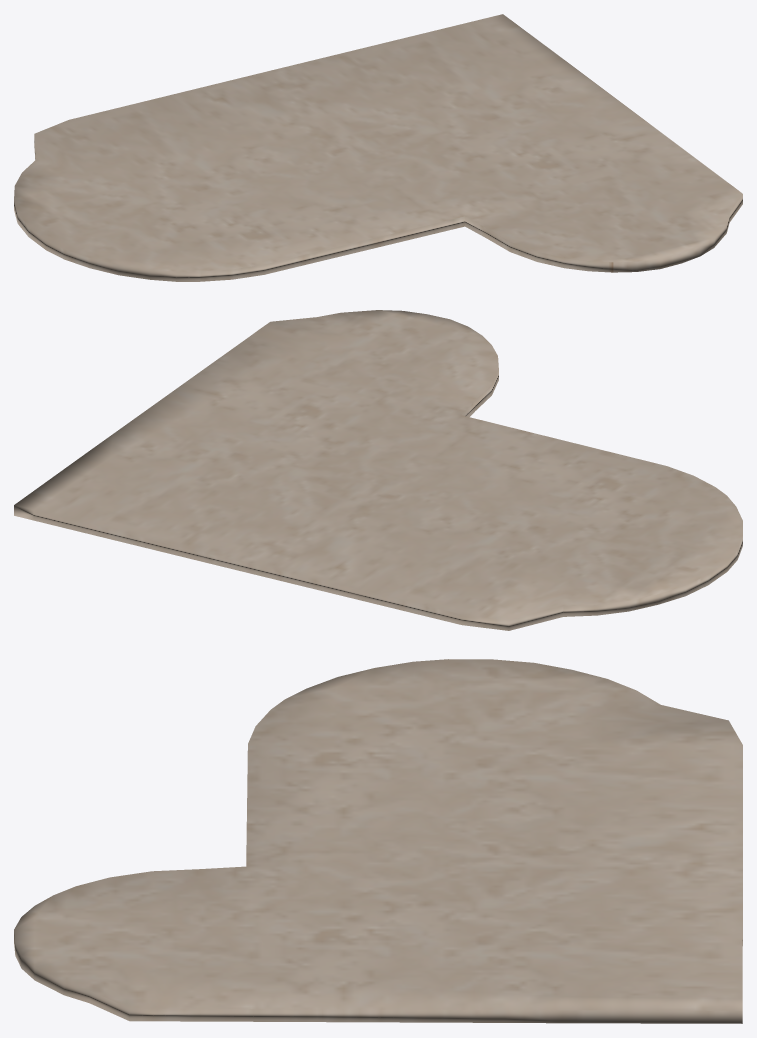
The model's file is NgoaiSan.fbx.
The picture shows the model from 3 angles, top to bottom: view 1: azimuth 30°, elevation 25°; view 2: azimuth 150°, elevation 25°; view 3: azimuth 270°, elevation 25°; orthographic projection. The views are drawn at different scales.
Visible parts, largest first — view 1: NgoaiSan; view 2: NgoaiSan; view 3: NgoaiSan.
Part boxes in pixels (left/top/right/bottom): NgoaiSan: left=14, top=14, right=742, bottom=281; NgoaiSan: left=14, top=310, right=742, bottom=630; NgoaiSan: left=14, top=659, right=742, bottom=1023.
Size of the model in its own units: 1281 by 21.89 by 1122.
1 material, 1 textured.
